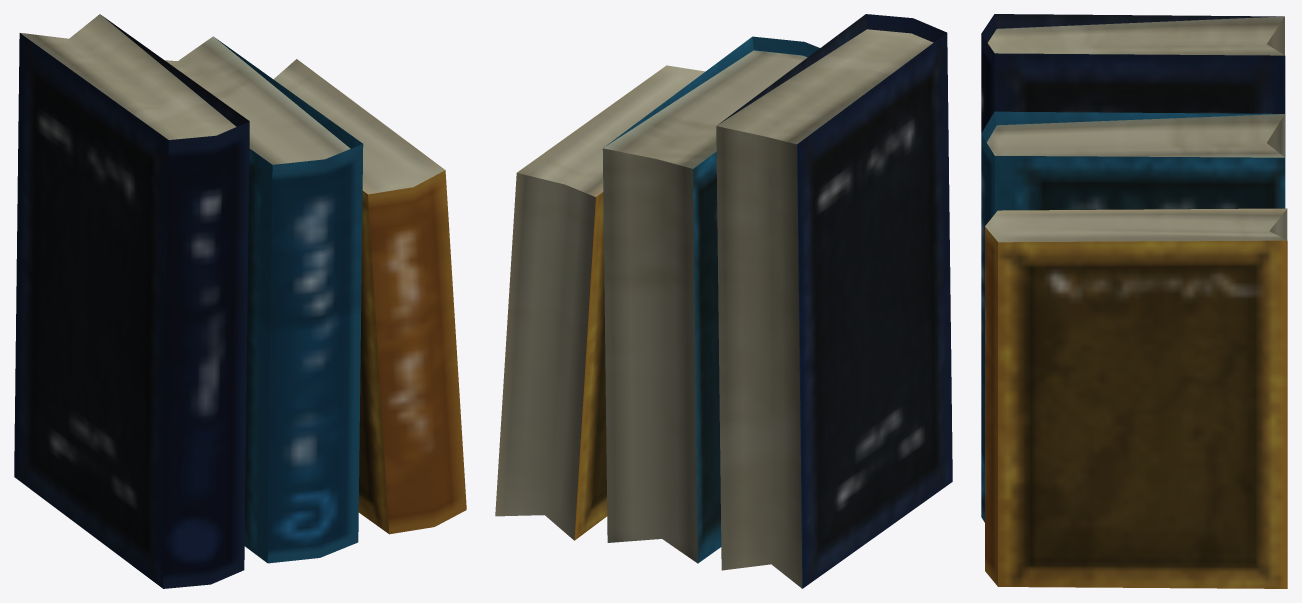
Rendered from M_Home_Garden_Book_Collection_06.fbx.
3 renders of one model, left to right at view 1: azimuth 30°, elevation 25°; view 2: azimuth 150°, elevation 25°; view 3: azimuth 270°, elevation 25°, orthographic. The views are drawn at different scales.
Visible parts, largest first — view 1: M_Home_Garden_Book_Collection_06; view 2: M_Home_Garden_Book_Collection_06; view 3: M_Home_Garden_Book_Collection_06.
Boxes of the visible parts, <box> form: M_Home_Garden_Book_Collection_06: <box>14,14,466,588</box>; M_Home_Garden_Book_Collection_06: <box>495,14,952,588</box>; M_Home_Garden_Book_Collection_06: <box>981,14,1287,588</box>.
Size of the model in its own units: 26.77 by 37.74 by 23.94.
